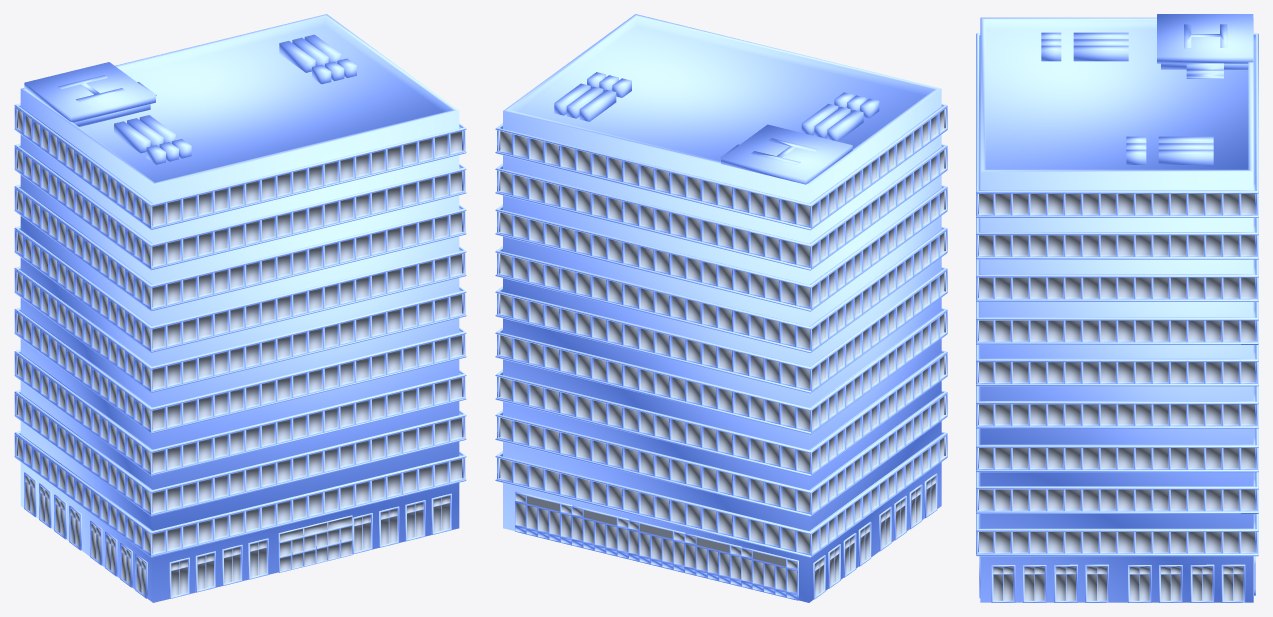
Rendered from building.fbx.
3 renders of one model, left to right at view 1: azimuth 30°, elevation 25°; view 2: azimuth 150°, elevation 25°; view 3: azimuth 270°, elevation 25°, orthographic. The views are drawn at different scales.
Visible parts, largest first — view 1: building; view 2: building; view 3: building.
Boxes of the visible parts, left/top/right/bottom form: building: left=14, top=14, right=466, bottom=602; building: left=495, top=14, right=947, bottom=602; building: left=976, top=14, right=1258, bottom=602.
Bounding box in the file's own units: 1590 × 2036 × 1195.
